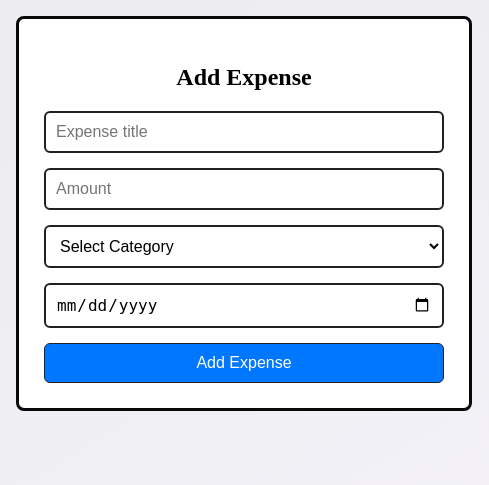
Test: AddExpense Component › shows custom category input when "Other" is selected
Step 1. Select "Other" in the dropdown with test id "category-select" → (244, 246), box [44, 225, 444, 268]
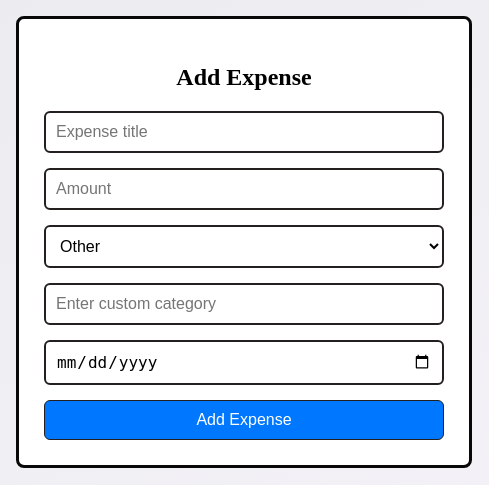
Now the field with test id "custom-category-input" is shown, box [44, 283, 444, 325]
